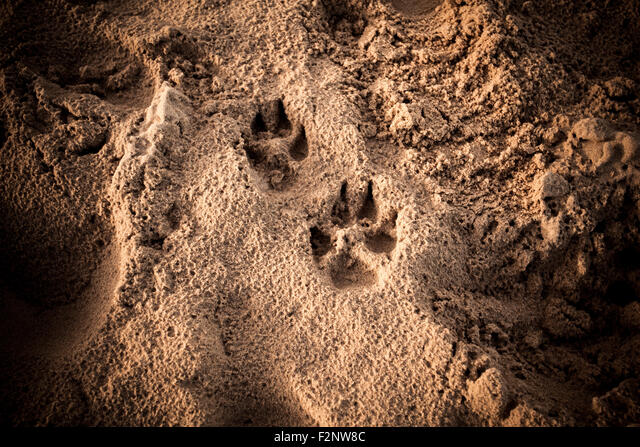fox: (311, 176, 401, 294), (229, 96, 314, 188)
